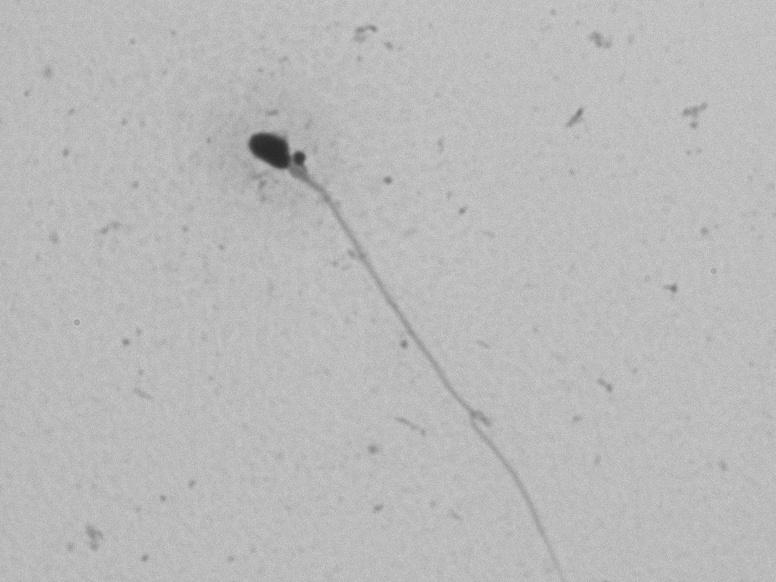Abnormal: (219, 107, 583, 478)
